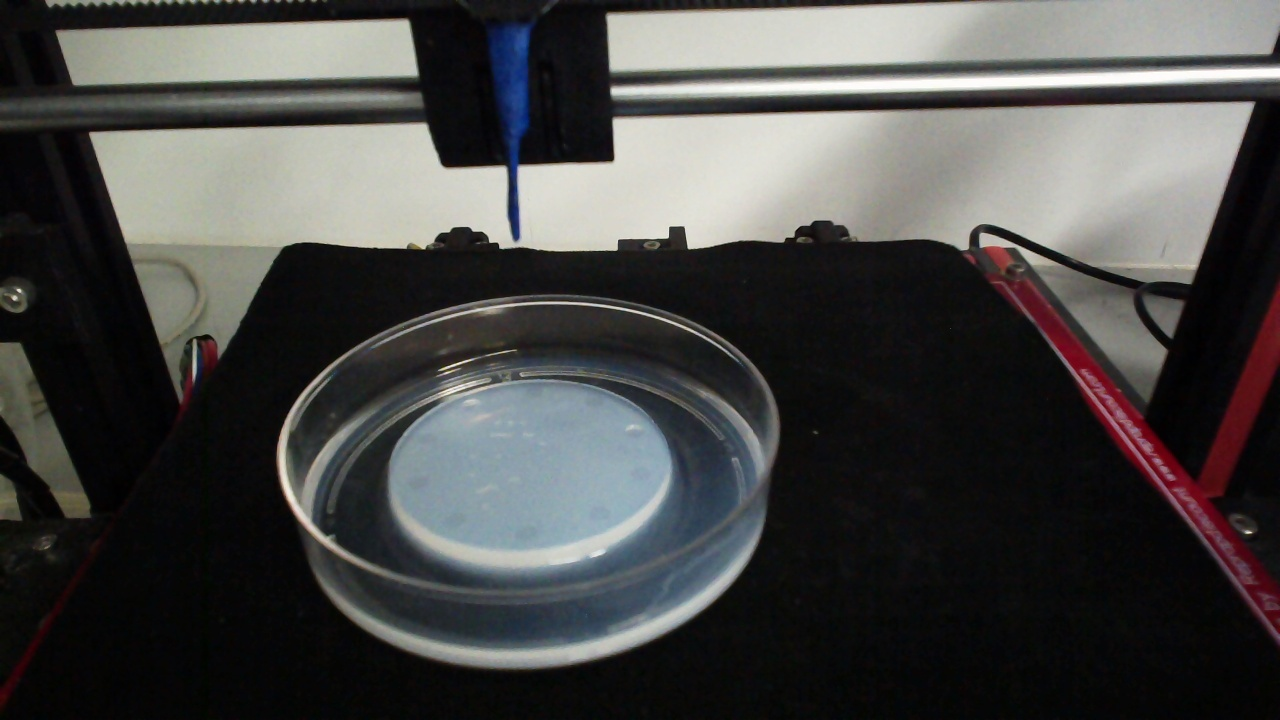groove: (440, 510, 466, 532), (405, 471, 430, 492), (510, 523, 537, 542), (585, 505, 612, 524), (414, 429, 438, 450), (627, 465, 652, 484), (580, 394, 606, 411), (459, 395, 480, 415), (522, 382, 546, 399), (624, 422, 646, 440)
needle: (485, 30, 528, 239)
